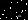person: (18, 9, 23, 17)
